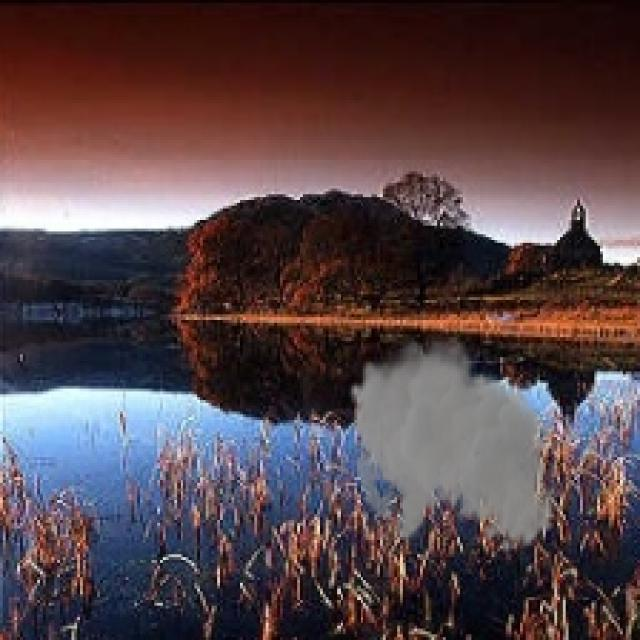smoke: (349, 329, 554, 554)
